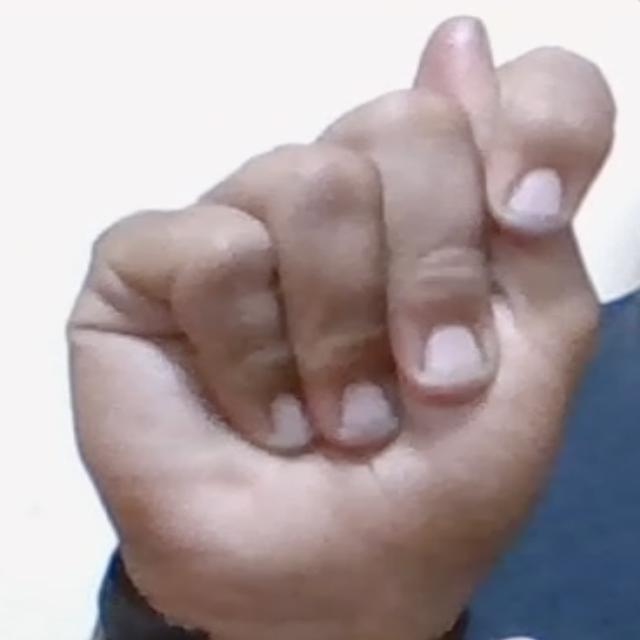T: (51, 2, 633, 620)
